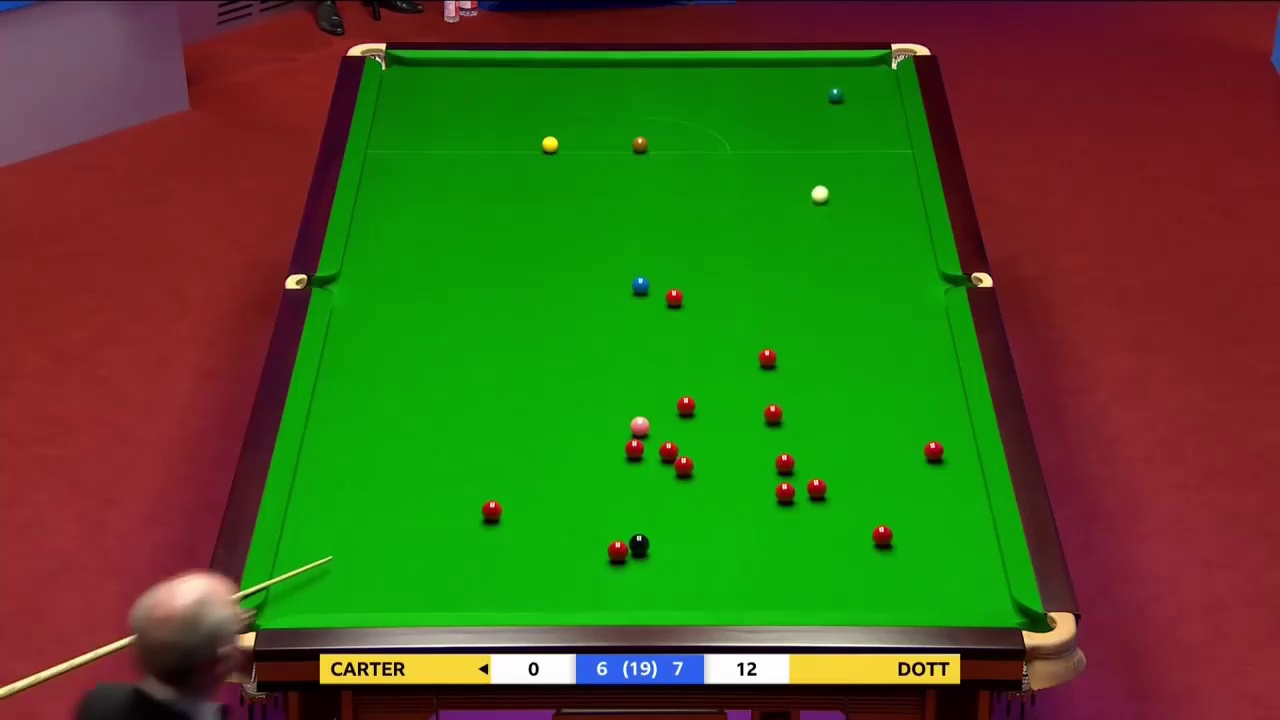ball: (868, 523, 895, 544), (628, 533, 650, 555), (607, 539, 626, 561), (479, 501, 502, 519), (663, 288, 684, 307), (809, 183, 828, 203), (660, 440, 677, 462), (623, 441, 642, 460), (806, 480, 826, 498), (759, 346, 775, 368), (924, 442, 943, 460), (777, 483, 796, 501), (677, 395, 694, 415), (541, 133, 558, 152), (765, 403, 782, 422), (630, 417, 648, 434), (778, 452, 793, 472), (631, 136, 648, 153), (633, 277, 651, 293), (827, 87, 844, 103)
